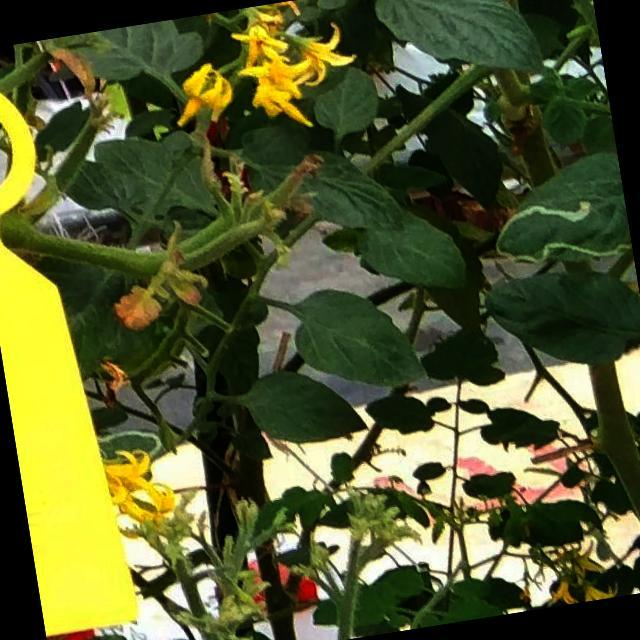Tomato healthy leaf: (283, 268, 434, 405), (362, 0, 553, 105), (235, 353, 376, 458)
Tomato target spot leaf: (478, 145, 634, 280)
